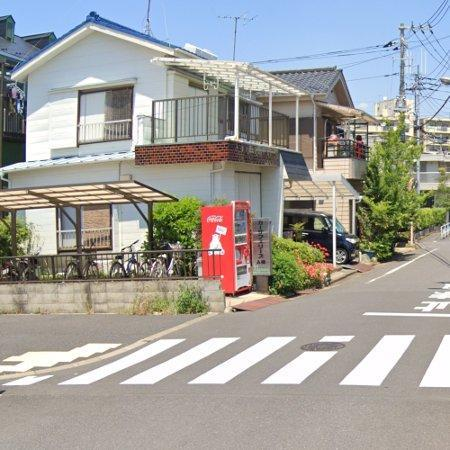crosswalks: (0, 332, 450, 390)
